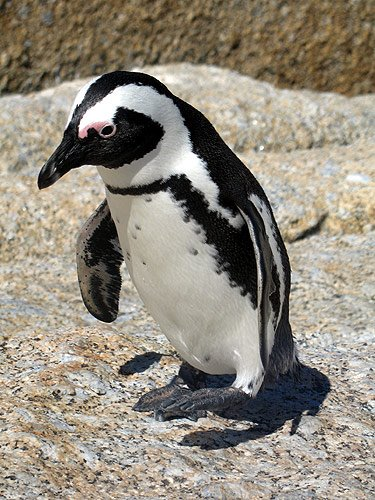penguin: (47, 71, 298, 430)
